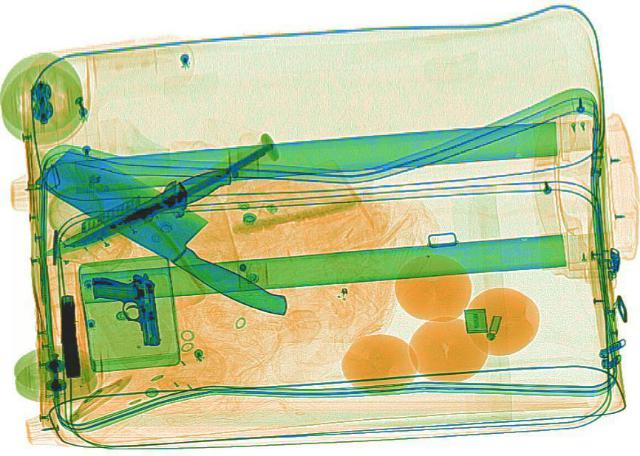Gun: (90, 271, 158, 346), (54, 295, 84, 374)
Knife: (19, 144, 324, 320), (60, 140, 284, 252), (27, 162, 240, 264)
